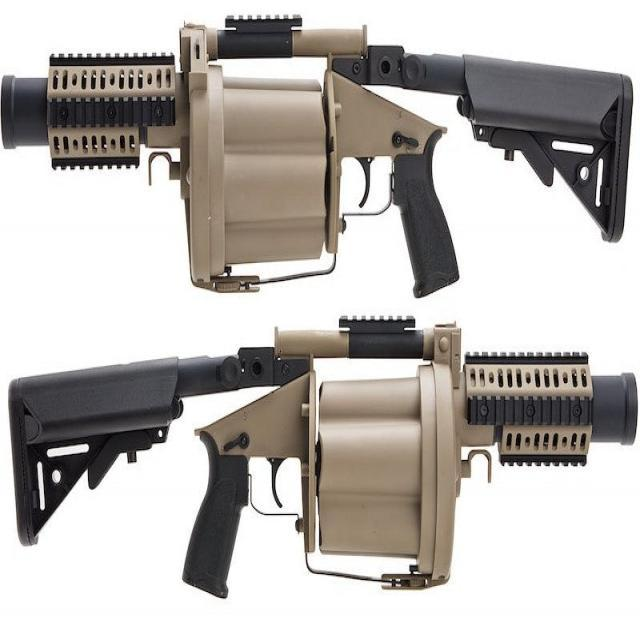rocket launcher: (10, 314, 640, 620), (4, 15, 640, 298)
